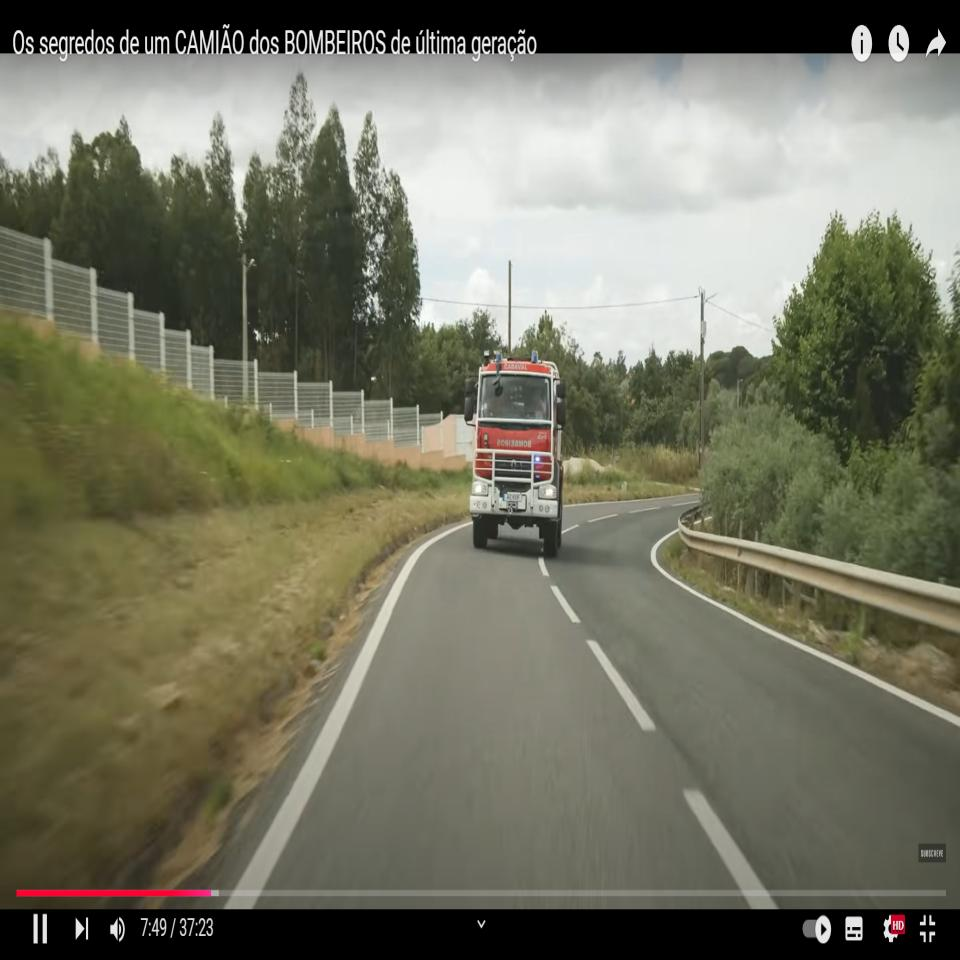viatura: (463, 346, 568, 558)
